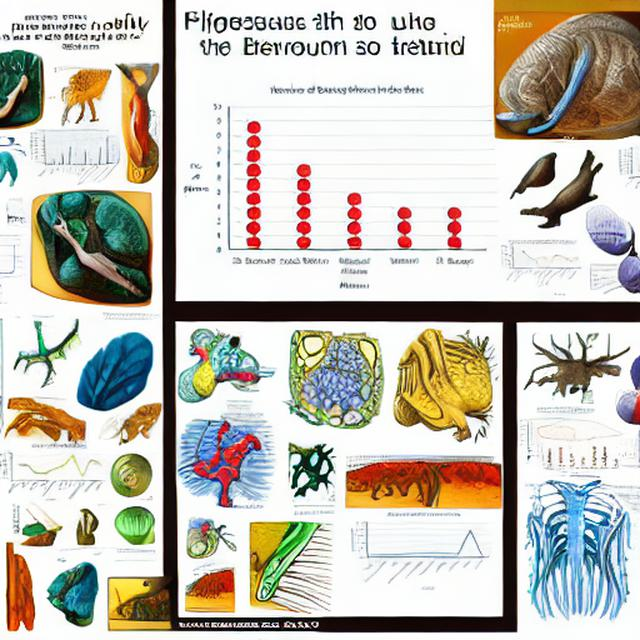Graph: (179, 79, 480, 296), (346, 510, 492, 595), (1, 444, 108, 504), (27, 126, 120, 186), (499, 238, 582, 288), (533, 438, 602, 476)
